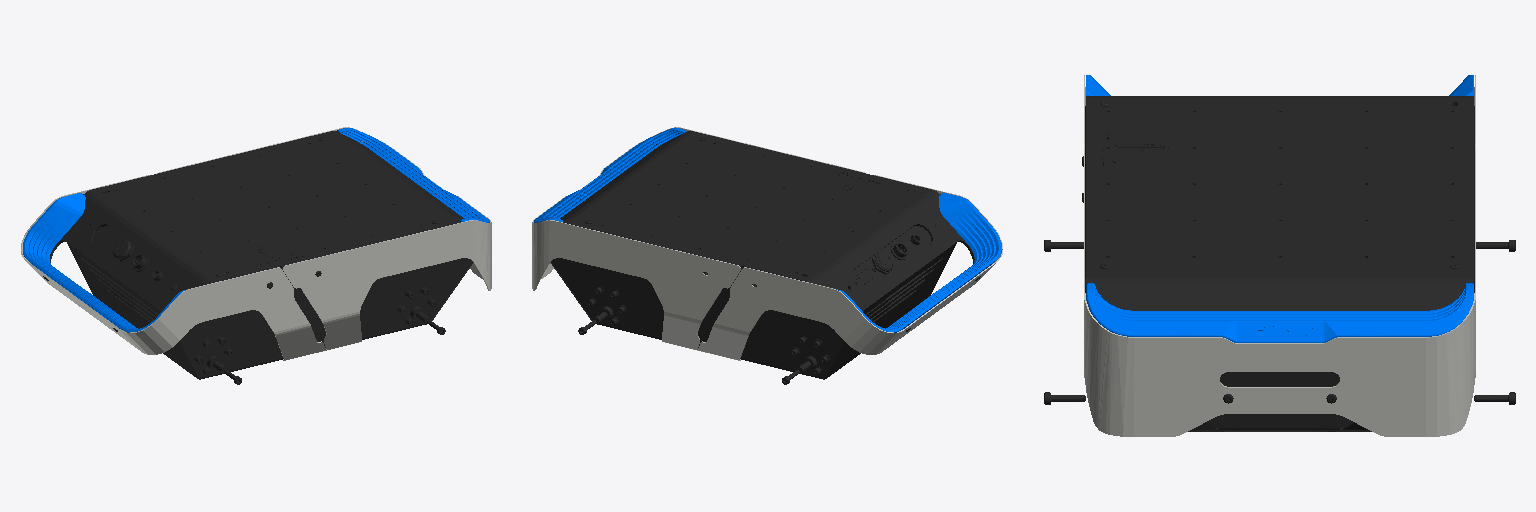
robot.urdf — york_joy_control_urdf:
<?xml version="1.0" encoding="utf-8"?>
<!-- This URDF was automatically created by SolidWorks to URDF Exporter! 
     Edited by @cmoralesd, july 2024
     For more information, please see http://wiki.ros.org/sw_urdf_exporter -->
<robot  name="york_joy_control_urdf">

  <!-- BASE LINK -->
  <link name="base_link">
    <inertial>
      <origin
        xyz="-0.062875 0.026468 -2.0449E-05"
        rpy="0 0 0" />
      <mass
        value="0.30841" />
      <inertia
        ixx="0.00015661"
        ixy="-1.7004E-07"
        ixz="3.939E-07"
        iyy="0.00045596"
        iyz="8.2607E-08"
        izz="0.00038161" />
    </inertial>
    <visual>
      <origin
        xyz="0 0 0"
        rpy="0 0 0" />
      <geometry>
        <mesh
          filename="package://york_joy_control/model/meshes/base_link.STL" />
      </geometry>
      <material
        name="dark gray">
        <color
          rgba="0.1 0.1 0.1 1" />
      </material>
    </visual>
    <collision>
      <origin
        xyz="0 0 0"
        rpy="0 0 0" />
      <geometry>
        <mesh
          filename="package://york_joy_control/model/meshes/base_link.STL" />
      </geometry>
    </collision>
  </link>

  <!-- RUEDA FRONTAL DERECHA -->
  <link
    name="frw_Link">
    <inertial>
      <origin
        xyz="-3.4304E-06 0.014787 3.4538E-06"
        rpy="0 0 0" />
      <mass
        value="0.20029" />
      <inertia
        ixx="0.00013739"
        ixy="1.2647E-09"
        ixz="-8.5796E-10"
        iyy="0.00022942"
        iyz="-1.0267E-08"
        izz="0.00013739" />
    </inertial>
    <visual>
      <origin
        xyz="0 0 0"
        rpy="0 0 0" />
      <geometry>
        <mesh
          filename="package://york_joy_control/model/meshes/frw_Link.STL" />
      </geometry>
      <material
        name="gray">
        <color
          rgba="0.2 0.2 0.2 1" />
      </material>
    </visual>
    <collision>
      <origin
        xyz="0 0 0"
        rpy="0 0 0" />
      <geometry>
        <mesh
          filename="package://york_joy_control/model/meshes/frw_Link.STL" />
      </geometry>
    </collision>
  </link>
  <joint
    name="frw_joint"
    type="continuous">
    <origin
      xyz="0.043965 -0.1368 0.020459"
      rpy="0 0 0" />
    <parent
      link="base_link" />
    <child
      link="frw_Link" />
    <axis
      xyz="0 1 0" />
  </joint>

  <!-- RUEDA FRONTAL IZQUIERDA -->
    <link
    name="flw_Link">
    <inertial>
      <origin
        xyz="-4.6056E-06 -0.014105 7.2241E-07"
        rpy="0 0 0" />
      <mass
        value="0.20022" />
      <inertia
        ixx="0.00013738"
        ixy="-7.8382E-09"
        ixz="-9.4422E-10"
        iyy="0.00022942"
        iyz="7.0508E-09"
        izz="0.00013738" />
    </inertial>
    <visual>
      <origin
        xyz="0 0 0"
        rpy="0 0 0" />
      <geometry>
        <mesh
          filename="package://york_joy_control/model/meshes/flw_Link.STL" />
      </geometry>
      <material
        name="gray">
        <color
          rgba="0.2 0.2 0.2 1" />
      </material>
    </visual>
    <collision>
      <origin
        xyz="0 0 0"
        rpy="0 0 0" />
      <geometry>
        <mesh
          filename="package://york_joy_control/model/meshes/flw_Link.STL" />
      </geometry>
    </collision>
  </link>
  <joint
    name="flw_joint"
    type="continuous">
    <origin
      xyz="0.043965 0.1368 0.020459"
      rpy="0 0 0" />
    <parent
      link="base_link" />
    <child
      link="flw_Link" />
    <axis
      xyz="0 1 0" />
  </joint>
  
  <!-- RUEDA POSTERIOR DERECHA -->
  <link
    name="brw_Link">
    <inertial>
      <origin
        xyz="-8.1859E-07 0.014105 4.6011E-06"
        rpy="0 0 0" />
      <mass
        value="0.20022" />
      <inertia
        ixx="0.00013738"
        ixy="7.29E-09"
        ixz="-8.7599E-10"
        iyy="0.00022942"
        iyz="-7.5627E-09"
        izz="0.00013738" />
    </inertial>
    <visual>
      <origin
        xyz="0 0 0"
        rpy="0 0 0" />
      <geometry>
        <mesh
          filename="package://york_joy_control/model/meshes/brw_Link.STL" />
      </geometry>
      <material
        name="gray">
        <color
          rgba="0.2 0.2 0.2 1" />
      </material>
    </visual>
    <collision>
      <origin
        xyz="0 0 0"
        rpy="0 0 0" />
      <geometry>
        <mesh
          filename="package://york_joy_control/model/meshes/brw_Link.STL" />
      </geometry>
    </collision>
  </link>
  <joint
    name="brw_joint"
    type="continuous">
    <origin
      xyz="-0.16604 -0.1368 0.020459"
      rpy="0 0 0" />
    <parent
      link="base_link" />
    <child
      link="brw_Link" />
    <axis
      xyz="0 1 0" />
  </joint>

  <!-- RUEDA POSTERIOR IZQUIERDA -->
  <link
    name="blw_Link">
    <inertial>
      <origin
        xyz="1.8195E-06 -0.014787 4.2189E-06"
        rpy="0 0 0" />
      <mass
        value="0.20029" />
      <inertia
        ixx="0.00013738"
        ixy="-2.2209E-09"
        ixz="-1.3258E-10"
        iyy="0.00022942"
        iyz="1.1069E-08"
        izz="0.00013739" />
    </inertial>
    <visual>
      <origin
        xyz="0 0 0"
        rpy="0 0 0" />
      <geometry>
        <mesh
          filename="package://york_joy_control/model/meshes/blw_Link.STL" />
      </geometry>
      <material
        name="gray">
        <color
          rgba="0.2 0.2 0.2 1" />
      </material>
    </visual>
    <collision>
      <origin
        xyz="0 0 0"
        rpy="0 0 0" />
      <geometry>
        <mesh
          filename="package://york_joy_control/model/meshes/blw_Link.STL" />
      </geometry>
    </collision>
  </link>
  <joint
    name="blw_joint"
    type="continuous">
    <origin
      xyz="-0.16604 0.1368 0.020459"
      rpy="0 0 0" />
    <parent
      link="base_link" />
    <child
      link="blw_Link" />
    <axis
      xyz="0 1 0" />
  </joint>

  <!-- ESTRUCTURA EXTERNA -->
  <link
    name="print_Link">
    <inertial>
      <origin
        xyz="-0.049465 -7.1318E-05 0.10941"
        rpy="0 0 0" />
      <mass
        value="0.045336" />
      <inertia
        ixx="0.00024085"
        ixy="-3.5448E-12"
        ixz="-4.3023E-06"
        iyy="1.5885E-05"
        iyz="-6.7384E-10"
        izz="0.0002418" />
    </inertial>
    <visual>
      <origin
        xyz="0 0 0"
        rpy="0 0 0" />
      <geometry>
        <mesh
          filename="package://york_joy_control/model/meshes/print_Link.STL" />
      </geometry>
      <material
        name="blue">
        <color
          rgba="0 0.5 1 1" />
      </material>
    </visual>
    <collision>
      <origin
        xyz="0 0 0"
        rpy="0 0 0" />
      <geometry>
        <mesh
          filename="package://york_joy_control/model/meshes/print_Link.STL" />
      </geometry>
    </collision>
  </link>
  <joint
    name="print_joint"
    type="fixed">
    <origin
      xyz="-0.061035 0 -0.027941"
      rpy="0 0 0" />
    <parent
      link="base_link" />
    <child
      link="print_Link" />
    <axis
      xyz="0 0 -1" />
  </joint>
  <link
    name="up_Link">
    <inertial>
      <origin
        xyz="0.0069289 1.4524E-05 0.13258"
        rpy="0 0 0" />
      <mass
        value="0.52675" />
      <inertia
        ixx="0.0023409"
        ixy="2.8879E-07"
        ixz="-0.00018051"
        iyy="0.0055444"
        iyz="-7.0668E-08"
        izz="0.0077521" />
    </inertial>
    <visual>
      <origin
        xyz="0 0 0"
        rpy="0 0 0" />
      <geometry>
        <mesh
          filename="package://york_joy_control/model/meshes/up_Link.STL" />
      </geometry>
      <material
        name="gray">
        <color
          rgba="0.2 0.2 0.2 1" />
      </material>
    </visual>
    <collision>
      <origin
        xyz="0 0 0"
        rpy="0 0 0" />
      <geometry>
        <mesh
          filename="package://york_joy_control/model/meshes/up_Link.STL" />
      </geometry>
    </collision>
  </link>
  <joint
    name="up_joint"
    type="fixed">
    <origin
      xyz="-0.061035 0 -0.027941"
      rpy="0 0 0" />
    <parent
      link="base_link" />
    <child
      link="up_Link" />
    <axis
      xyz="0 0 -1" />
  </joint>
  <link
    name="p_Link">
    <inertial>
      <origin
        xyz="-0.0022125 0.000284 0.064489"
        rpy="0 0 0" />
      <mass
        value="0.38976" />
      <inertia
        ixx="0.0011179"
        ixy="-1.1398E-06"
        ixz="4.962E-05"
        iyy="0.001671"
        iyz="4.1379E-07"
        izz="0.002341" />
    </inertial>
    <visual>
      <origin
        xyz="0 0 0"
        rpy="0 0 0" />
      <geometry>
        <mesh
          filename="package://york_joy_control/model/meshes/p_Link.STL" />
      </geometry>
      <material
        name="gray">
        <color
          rgba="0.2 0.2 0.2 1" />
      </material>
    </visual>
    <collision>
      <origin
        xyz="0 0 0"
        rpy="0 0 0" />
      <geometry>
        <mesh
          filename="package://york_joy_control/model/meshes/p_Link.STL" />
      </geometry>
    </collision>
  </link>
  <joint
    name="p_joint"
    type="fixed">
    <origin
      xyz="-0.061035 0 -0.027941"
      rpy="0 0 0" />
    <parent
      link="base_link" />
    <child
      link="p_Link" />
    <axis
      xyz="0 0 0" />
  </joint>
  <link
    name="fb_Link">
    <inertial>
      <origin
        xyz="0 0 0"
        rpy="0 0 0" />
      <mass
        value="0" />
      <inertia
        ixx="0"
        ixy="0"
        ixz="0"
        iyy="0"
        iyz="0"
        izz="0" />
    </inertial>
    <visual>
      <origin
        xyz="0 0 0"
        rpy="0 0 0" />
      <geometry>
        <mesh
          filename="package://york_joy_control/model/meshes/fb_Link.STL" />
      </geometry>
      <material
        name="metal">
        <color
          rgba="0.8 0.8 0.78 1" />
      </material>
    </visual>
    <collision>
      <origin
        xyz="0 0 0"
        rpy="0 0 0" />
      <geometry>
        <mesh
          filename="package://york_joy_control/model/meshes/fb_Link.STL" />
      </geometry>
    </collision>
  </link>
  <joint
    name="fb_joint"
    type="fixed">
    <origin
      xyz="-0.061035 0 -0.027941"
      rpy="0 0 0" />
    <parent
      link="base_link" />
    <child
      link="fb_Link" />
    <axis
      xyz="0 0 -1" />
  </joint>
</robot>

--- Render facts (derived) ---
Views: 3 orthographic renders of the robot side by side, from view 1: azimuth 30°, elevation 25°; view 2: azimuth 150°, elevation 25°; view 3: azimuth 270°, elevation 25°.
Model york_joy_control_urdf with 9 links and 8 joints (4 continuous, 4 fixed), rooted at base_link, posed all joints at 0.
Links seen in each view (by area): view 1: up_Link, fb_Link, p_Link, print_Link; view 2: up_Link, fb_Link, p_Link, print_Link; view 3: up_Link, fb_Link, print_Link, p_Link.
Link boxes in pixels (left/top/right/bottom): up_Link: left=50, top=131, right=463, bottom=328; fb_Link: left=21, top=127, right=491, bottom=360; p_Link: left=43, top=137, right=473, bottom=384; print_Link: left=23, top=128, right=489, bottom=332; up_Link: left=560, top=131, right=974, bottom=328; fb_Link: left=532, top=127, right=1002, bottom=360; p_Link: left=550, top=137, right=980, bottom=384; print_Link: left=534, top=128, right=1001, bottom=332; up_Link: left=1086, top=96, right=1473, bottom=310; fb_Link: left=1084, top=75, right=1475, bottom=436; print_Link: left=1086, top=75, right=1473, bottom=342; p_Link: left=1044, top=101, right=1515, bottom=431.
Bounding box of the posed robot: 0.3793 × 0.2736 × 0.1086 m (x, y, z).
5 mesh visuals loaded from 9 distinct referenced files (5 binary STL); not drawn: 4 (reference not matched to a file when rendering).
